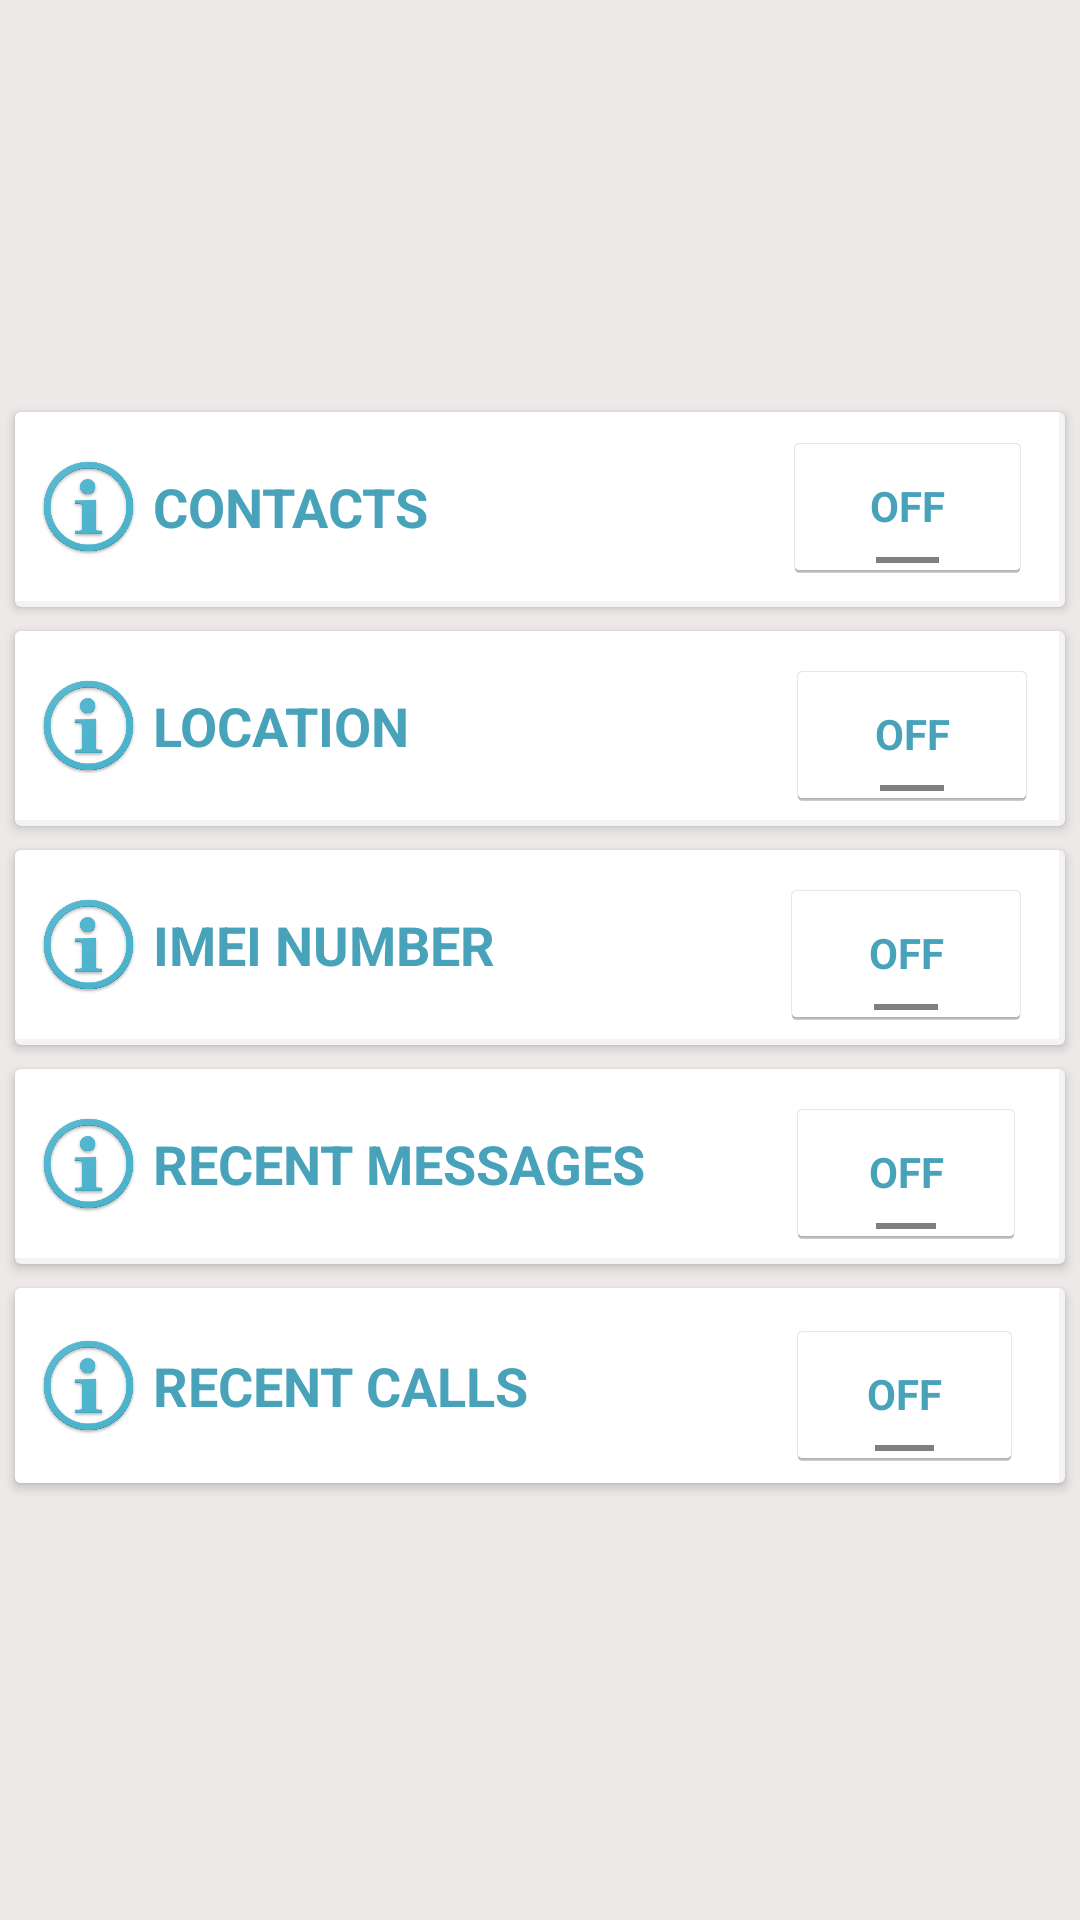

Icon click points for this 1080w x 1920h phone screenshot, format [x,y]:
info details: [88,508], [88,727], [88,946], [88,1165], [88,1387]
